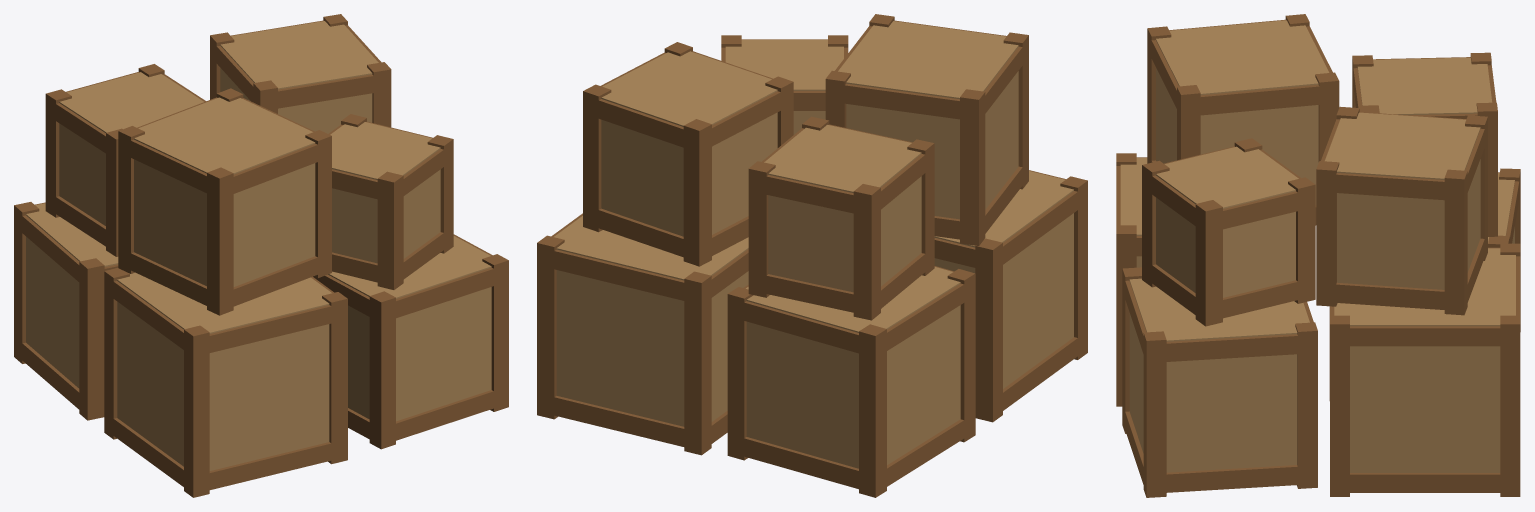
Rendered from pile_crates_3.glb.
The picture shows the model from 3 angles, left to right: view 1: azimuth 30°, elevation 25°; view 2: azimuth 150°, elevation 25°; view 3: azimuth 270°, elevation 25°; orthographic projection. The views are drawn at different scales.
Visible parts, largest first — view 1: pile_crates_3; view 2: pile_crates_3; view 3: pile_crates_3.
Part boxes in pixels (x1,y1,x2,y2): pile_crates_3: (14,14,508,497); pile_crates_3: (537,14,1087,497); pile_crates_3: (1116,14,1520,497).
Size of the model in its own units: 1.41 by 1.22 by 1.4.
